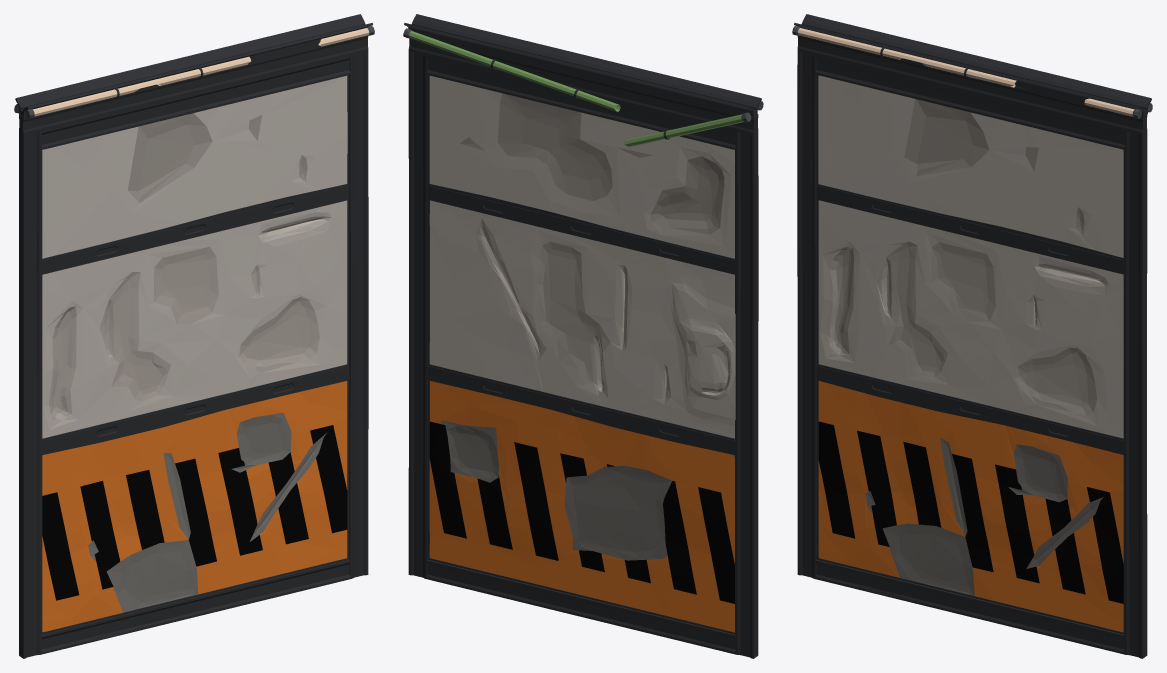
File: SM_Wall_Broken_04.gltf
3 renders of one model, left to right at view 1: azimuth 30°, elevation 25°; view 2: azimuth 150°, elevation 25°; view 3: azimuth 330°, elevation 25°, orthographic.
Parts seen in each view (by area): view 1: SM_Wall_Broken_04; view 2: SM_Wall_Broken_04; view 3: SM_Wall_Broken_04.
Part boxes in pixels (left/top/right/bottom): SM_Wall_Broken_04: left=14, top=14, right=374, bottom=658; SM_Wall_Broken_04: left=403, top=14, right=763, bottom=658; SM_Wall_Broken_04: left=792, top=14, right=1152, bottom=658.
Bounding box in the file's own units: 2 × 3.07 × 0.166.
